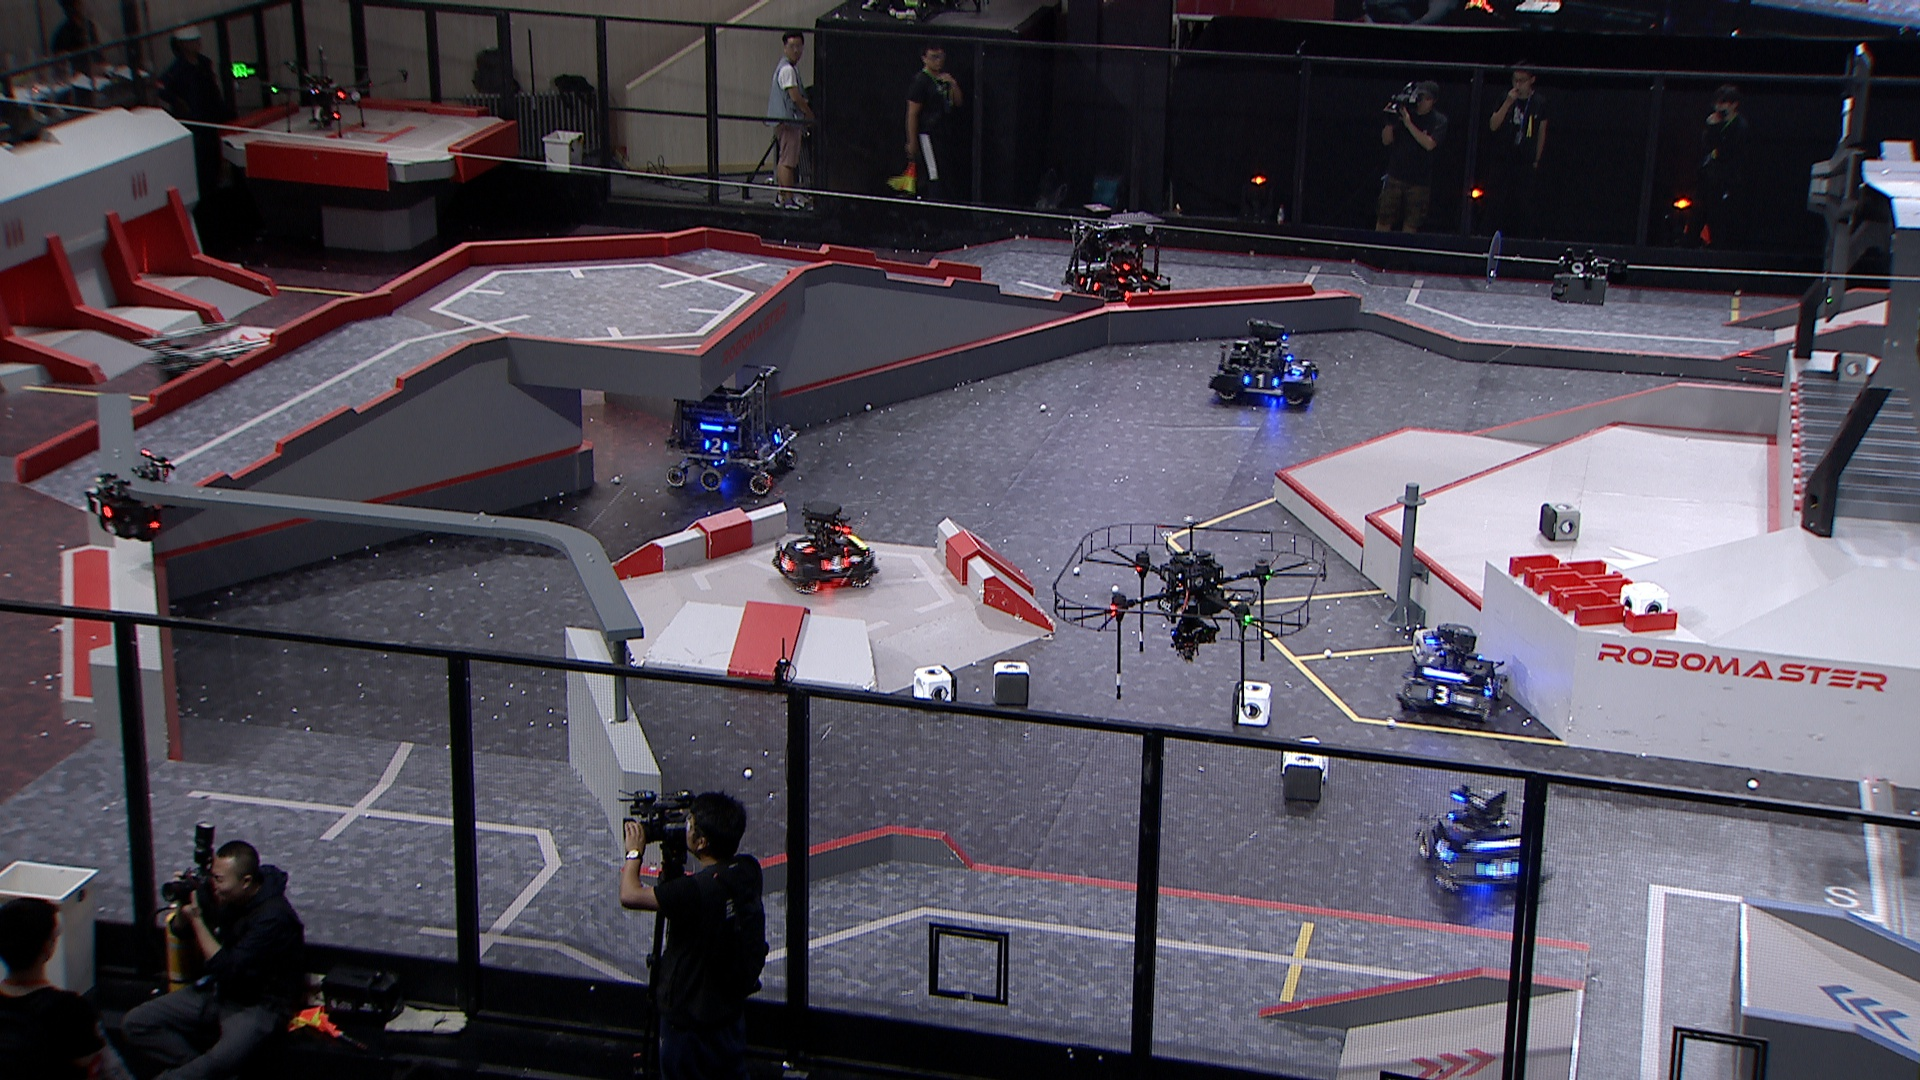armor: (1474, 856, 1519, 880), (82, 491, 116, 520), (1242, 371, 1282, 392), (1429, 833, 1456, 864), (822, 553, 851, 574), (1427, 684, 1453, 707), (703, 436, 731, 456), (1114, 272, 1149, 286), (793, 535, 818, 555), (775, 553, 795, 575), (1077, 276, 1101, 294), (1481, 675, 1498, 698), (770, 425, 787, 447), (1290, 363, 1309, 378)
car: (662, 365, 800, 495), (1411, 785, 1555, 899), (142, 320, 273, 434), (1399, 624, 1510, 725), (1060, 210, 1172, 306), (769, 498, 880, 595), (1211, 320, 1323, 410)
watcher: (79, 450, 177, 545)
